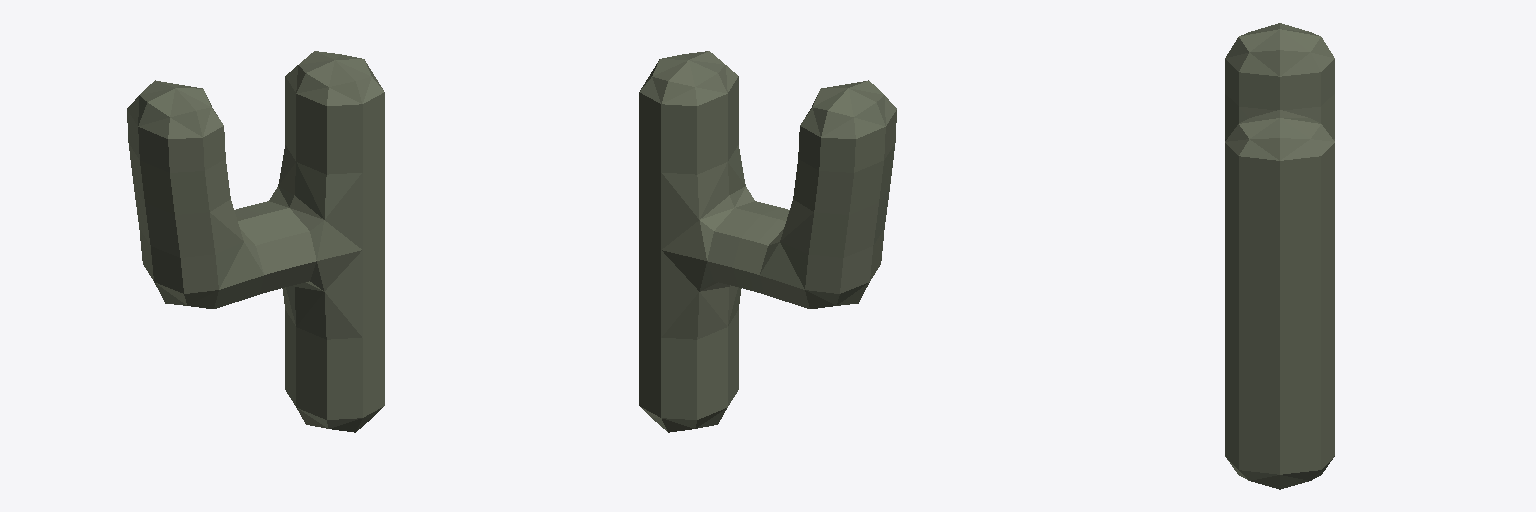
Rendered from Numbers_4.obj.
3 renders of one model, left to right at view 1: azimuth 30°, elevation 25°; view 2: azimuth 150°, elevation 25°; view 3: azimuth 270°, elevation 25°, orthographic.
Parts seen in each view (by area): view 1: Numbers_4_Cube.034; view 2: Numbers_4_Cube.034; view 3: Numbers_4_Cube.034.
Boxes of the visible parts, box(x1,y1,x2,y2) form: Numbers_4_Cube.034: box(127, 51, 384, 432); Numbers_4_Cube.034: box(639, 51, 896, 432); Numbers_4_Cube.034: box(1225, 23, 1334, 489).
Bounding box in the file's own units: 0.7404 × 1.13 × 0.2996.